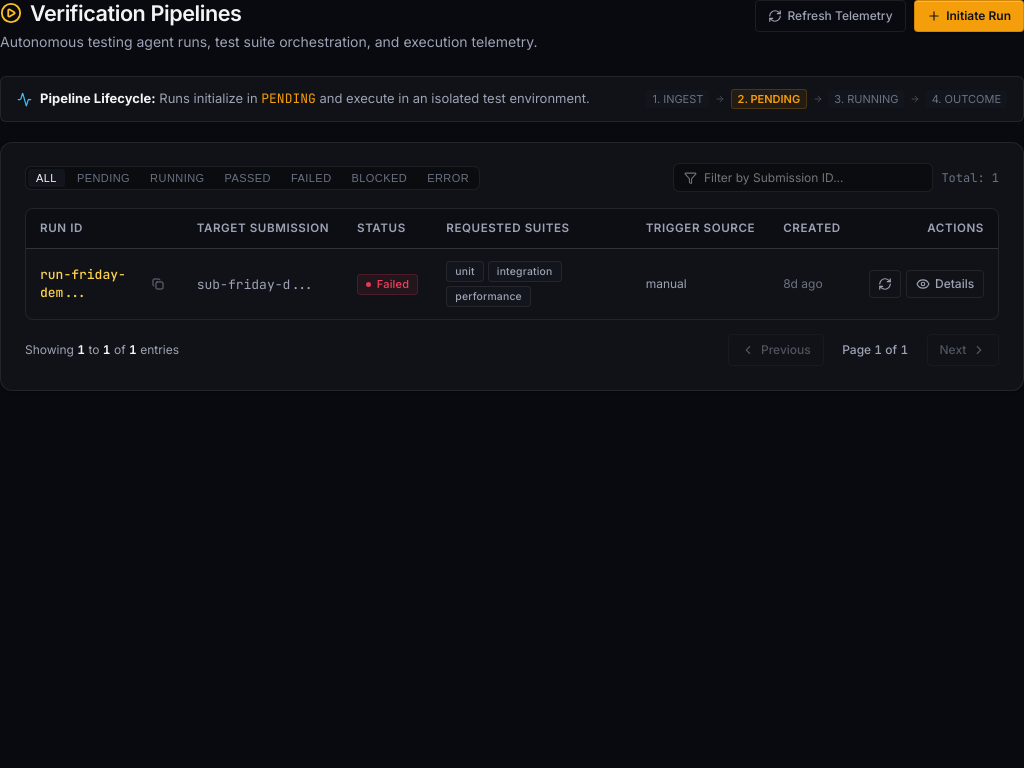
Test: Supervisor verification results UI › shows failed verification evidence while keeping advanced controls collapsed and XAI locked
Click the button "Details" at (945,284), box [906, 270, 984, 298]
(page scrolled)
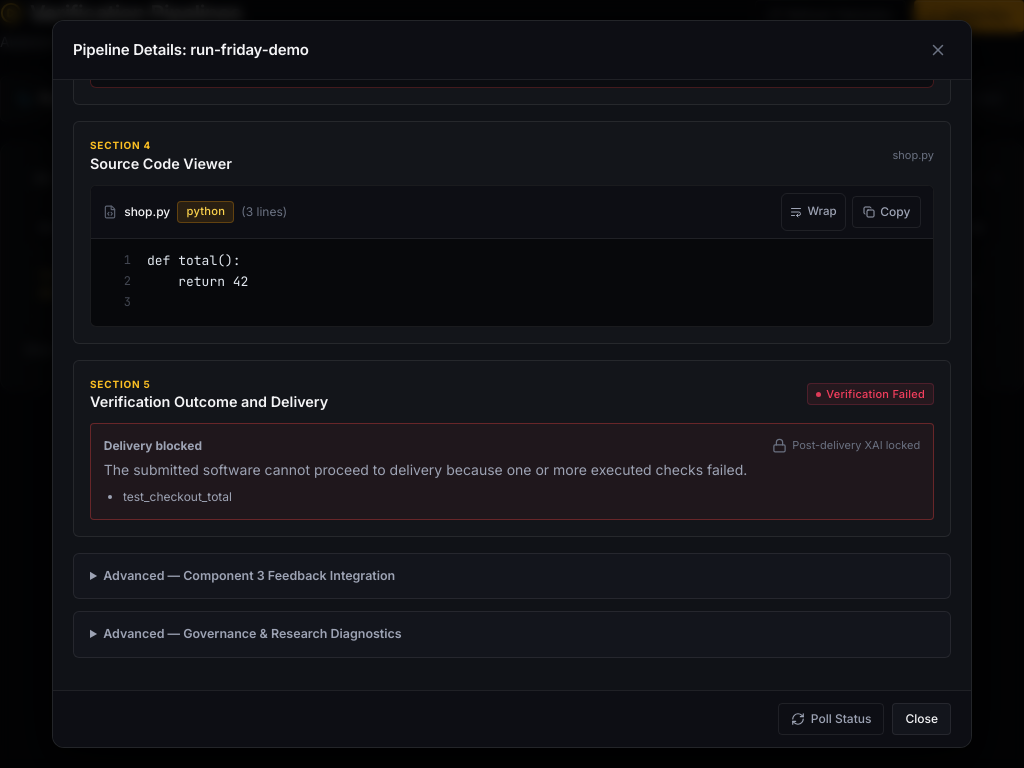
Expected: the text "Verification Failed" is shown, [826, 387, 925, 401]
Expected: the text "Post-delivery XAI locked" is shown, [772, 437, 920, 454]
